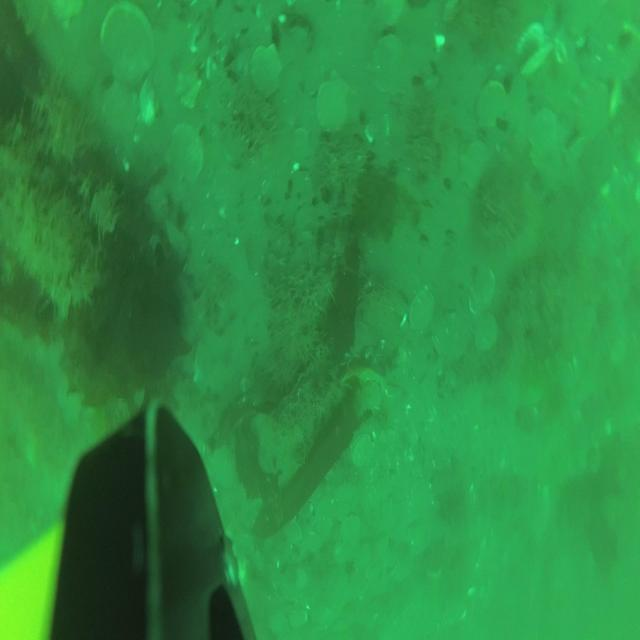scallop: (98, 8, 150, 82), (164, 123, 202, 183), (372, 34, 405, 99), (316, 70, 350, 131), (104, 78, 138, 132), (435, 316, 472, 365), (475, 82, 510, 132), (252, 46, 282, 99), (407, 289, 436, 336), (460, 138, 488, 186), (468, 267, 494, 315), (532, 109, 558, 153), (475, 315, 497, 354), (352, 436, 373, 468)
